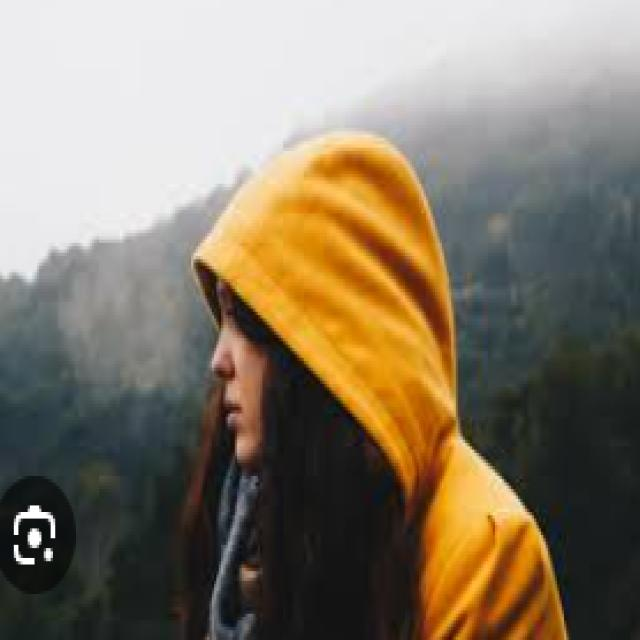4_capucha: (191, 125, 460, 518)
